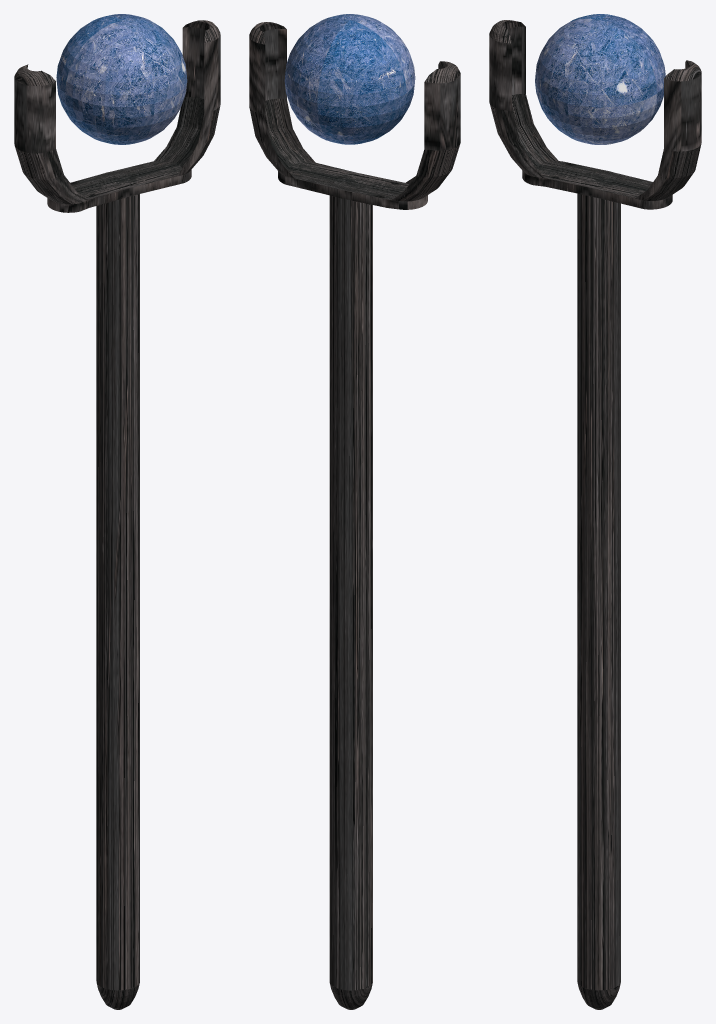
The model's file is Gregs Staff.fbx.
3 renders of one model, left to right at view 1: azimuth 30°, elevation 25°; view 2: azimuth 150°, elevation 25°; view 3: azimuth 330°, elevation 25°, orthographic.
Parts seen in each view (by area): view 1: Cylinder, Sphere; view 2: Cylinder, Sphere; view 3: Cylinder, Sphere.
Boxes of the visible parts, <box> form: Cylinder: <box>14,20,220,1009</box>; Sphere: <box>56,14,187,144</box>; Cylinder: <box>249,22,460,1009</box>; Sphere: <box>284,14,415,144</box>; Cylinder: <box>489,20,701,1009</box>; Sphere: <box>535,14,665,144</box>.
Size of the model in its own units: 107 by 499 by 60.
